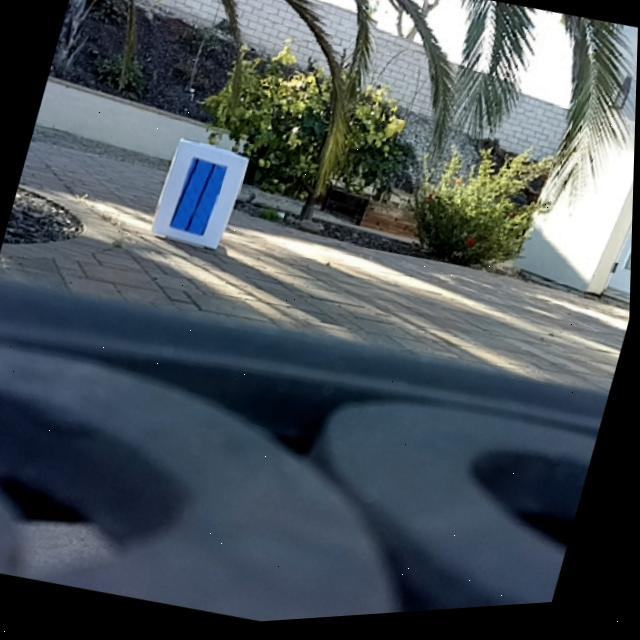led: (168, 153, 231, 244)
